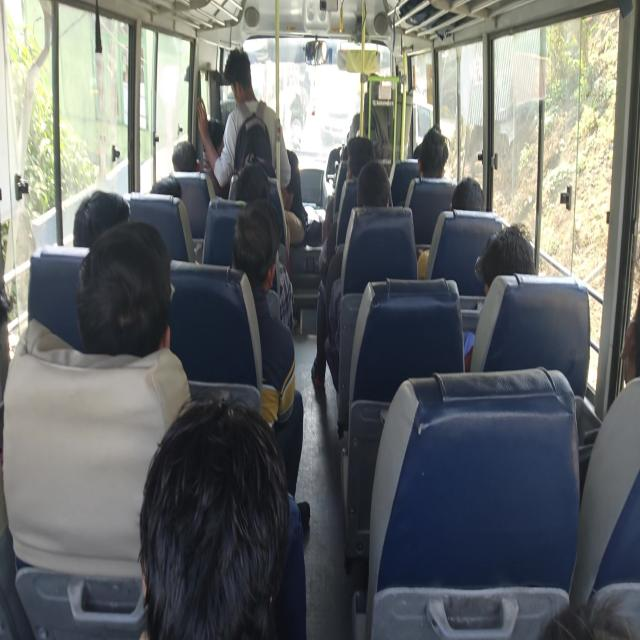person: (137, 412, 303, 640), (213, 49, 309, 150), (209, 202, 307, 296), (103, 224, 190, 323), (483, 229, 551, 322), (224, 177, 295, 264), (70, 201, 138, 253), (620, 281, 640, 448), (416, 125, 456, 176), (151, 162, 196, 202), (237, 162, 269, 208), (359, 166, 394, 202), (357, 133, 384, 177), (199, 118, 225, 160), (458, 176, 483, 218), (175, 135, 198, 162), (406, 142, 424, 157)
